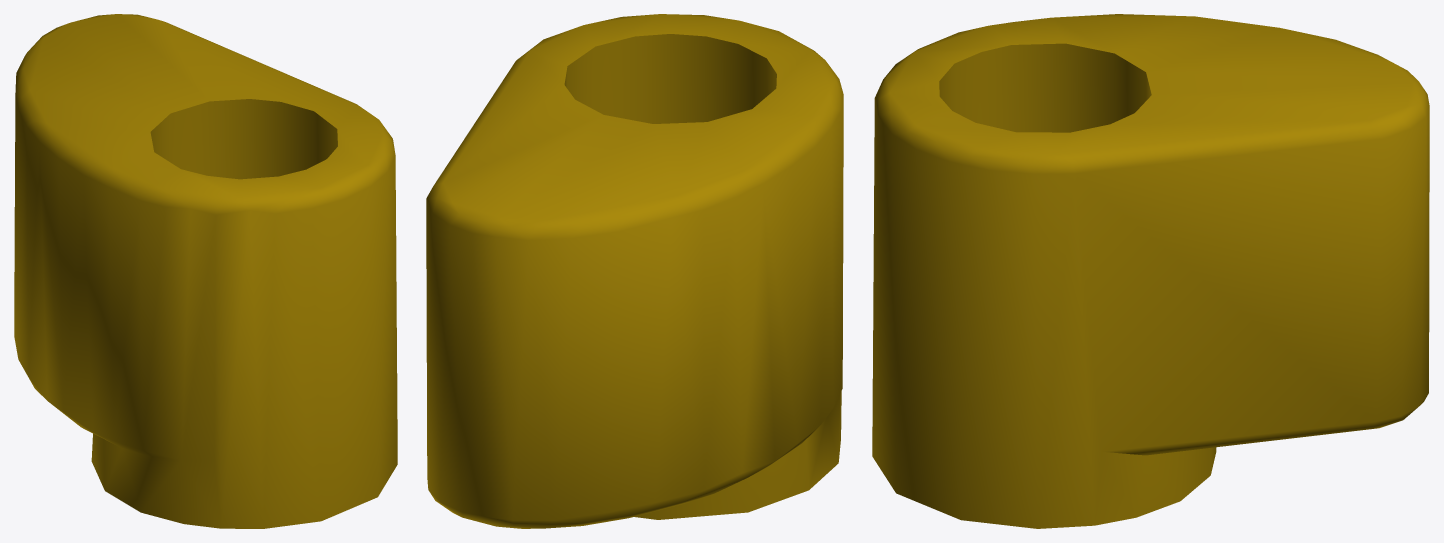
File: cam.obj
3 views of the same model, side by side, from view 1: azimuth 30°, elevation 25°; view 2: azimuth 150°, elevation 25°; view 3: azimuth 270°, elevation 25° (orthographic). The views are drawn at different scales.
Parts seen in each view (by area): view 1: Кулачок; view 2: Кулачок; view 3: Кулачок.
Boxes of the visible parts, box(x1,y1,x2,y2) form: Кулачок: box(14, 14, 397, 528); Кулачок: box(426, 14, 843, 528); Кулачок: box(872, 14, 1429, 528).
Bounding box in the file's own units: 0.00849 × 0.0095 × 0.013.
